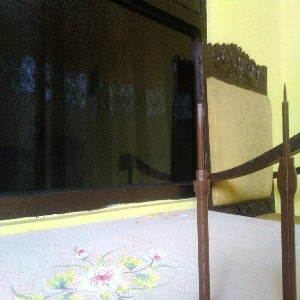obeng: (192, 102, 211, 300)
solder: (277, 82, 298, 300)
